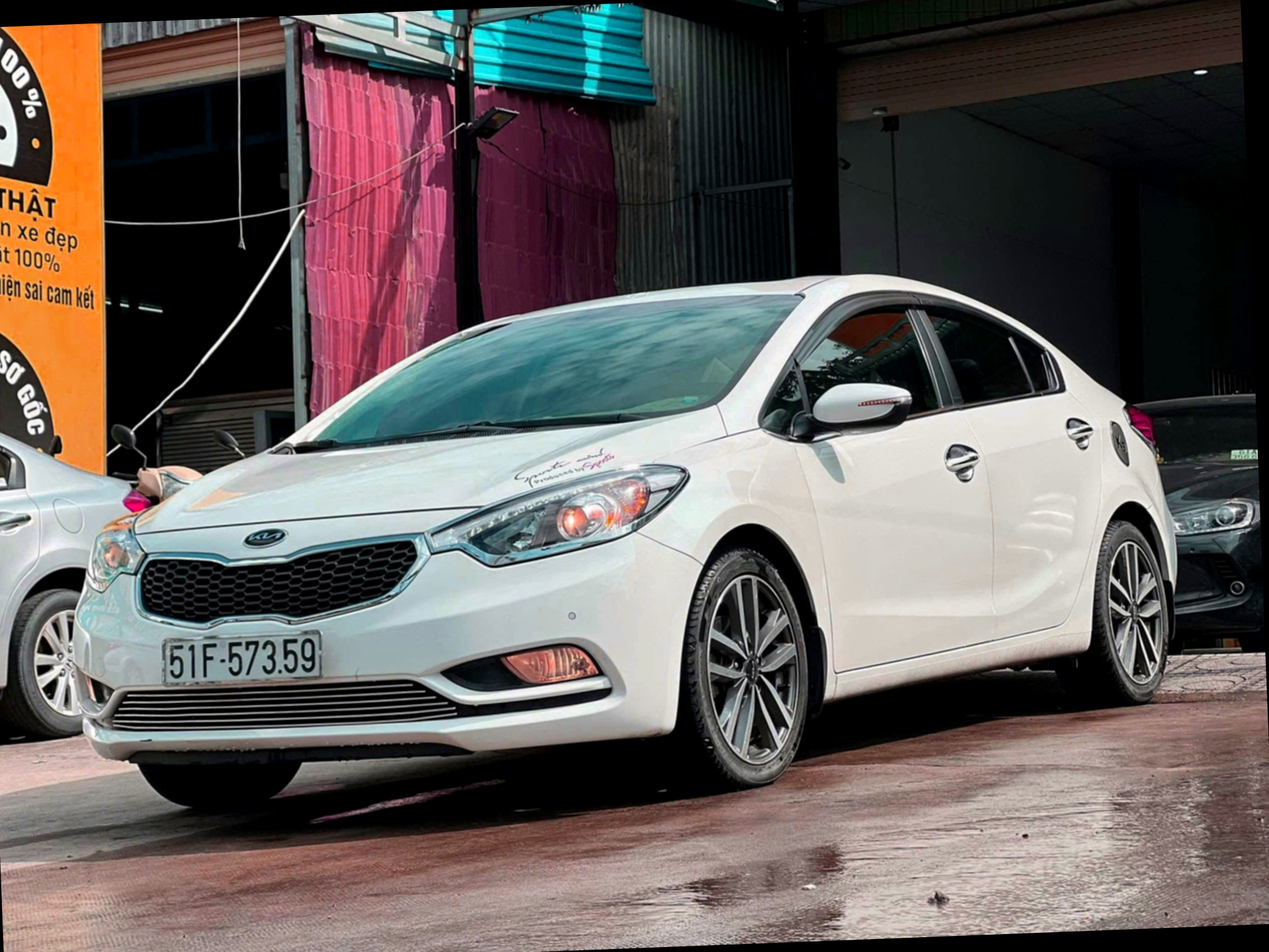Bien-so: (170, 620, 332, 672)
